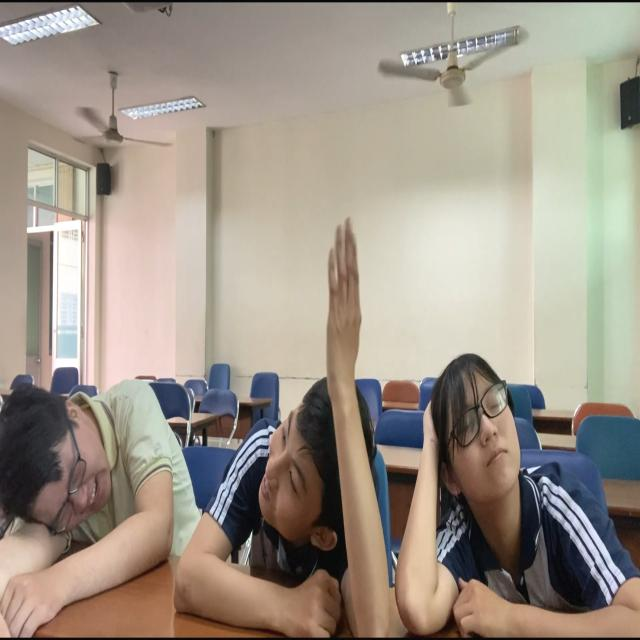raise_hand: (252, 218, 390, 640)
sleep: (392, 341, 640, 640), (2, 368, 191, 640)
